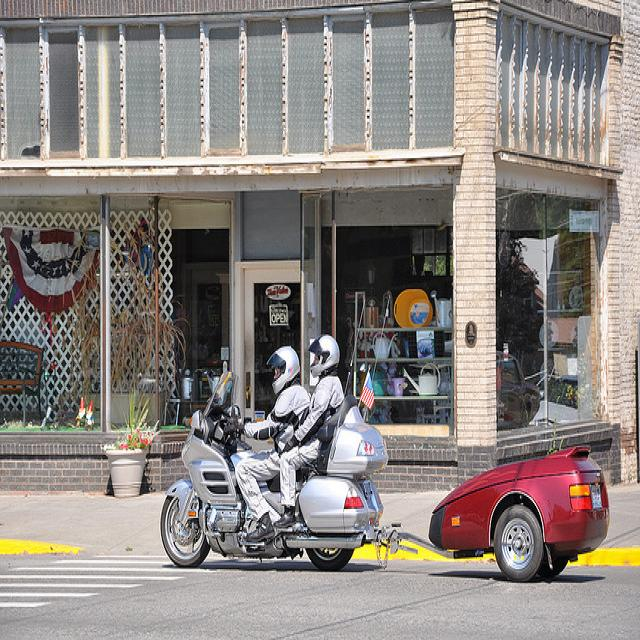motor: (161, 364, 390, 570)
